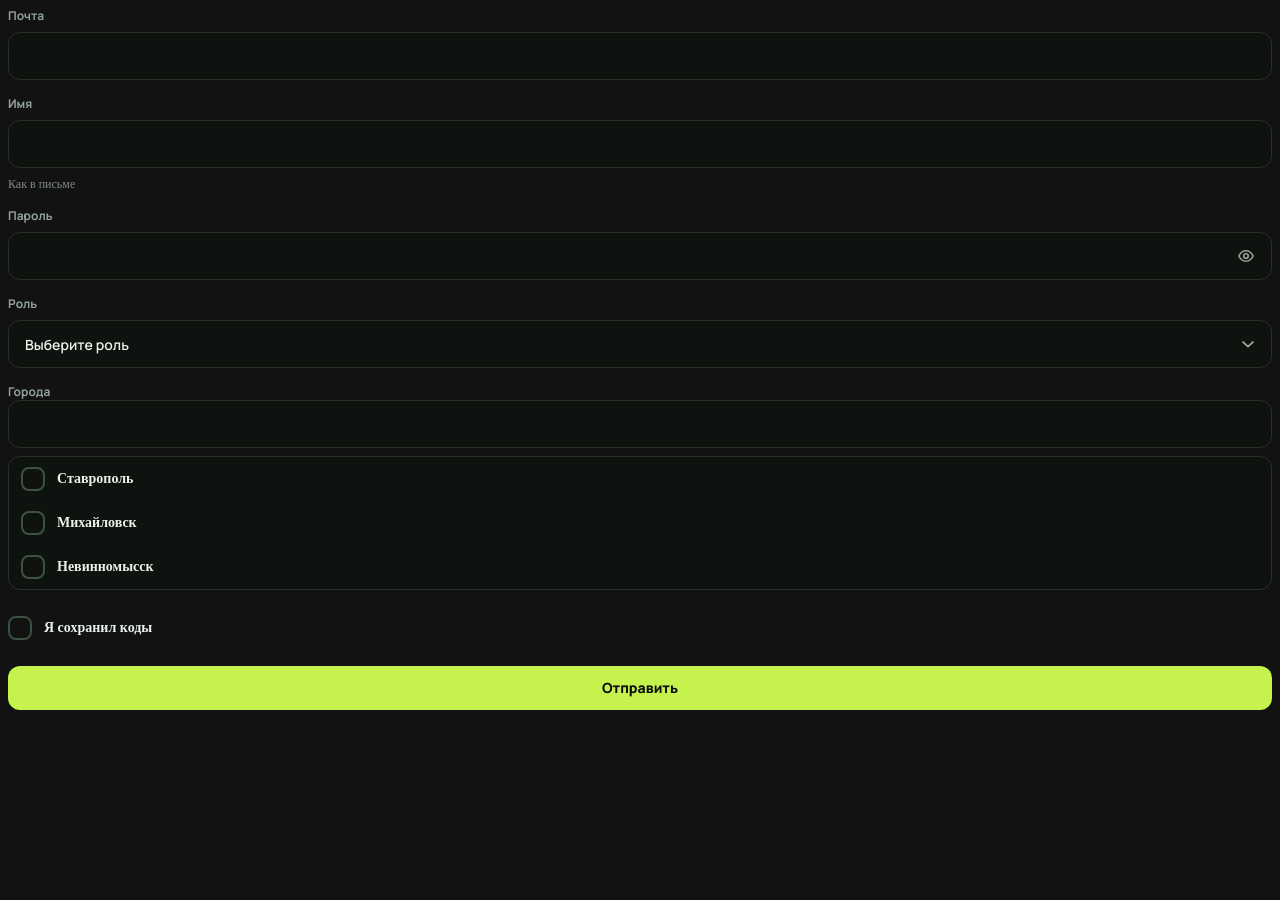
Test: Form: ошибки сервера › неизвестный код — общий текст errors.internal
Step 1. Type "a@b.c" into the field labelled "Почта" → (640, 56), box [8,32,1272,80]
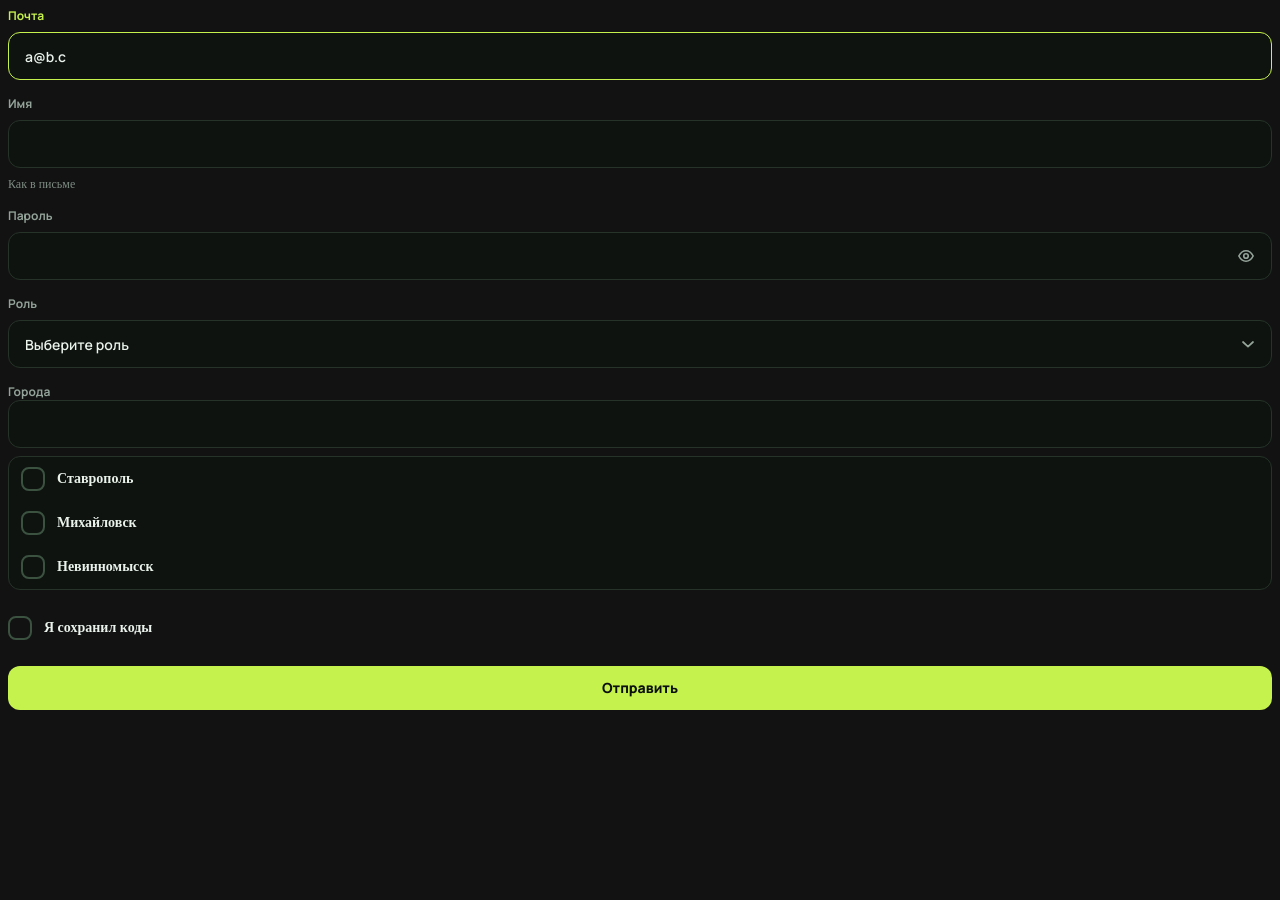
Step 2. Click the button "Отправить" → (640, 688), box [8,666,1272,710]
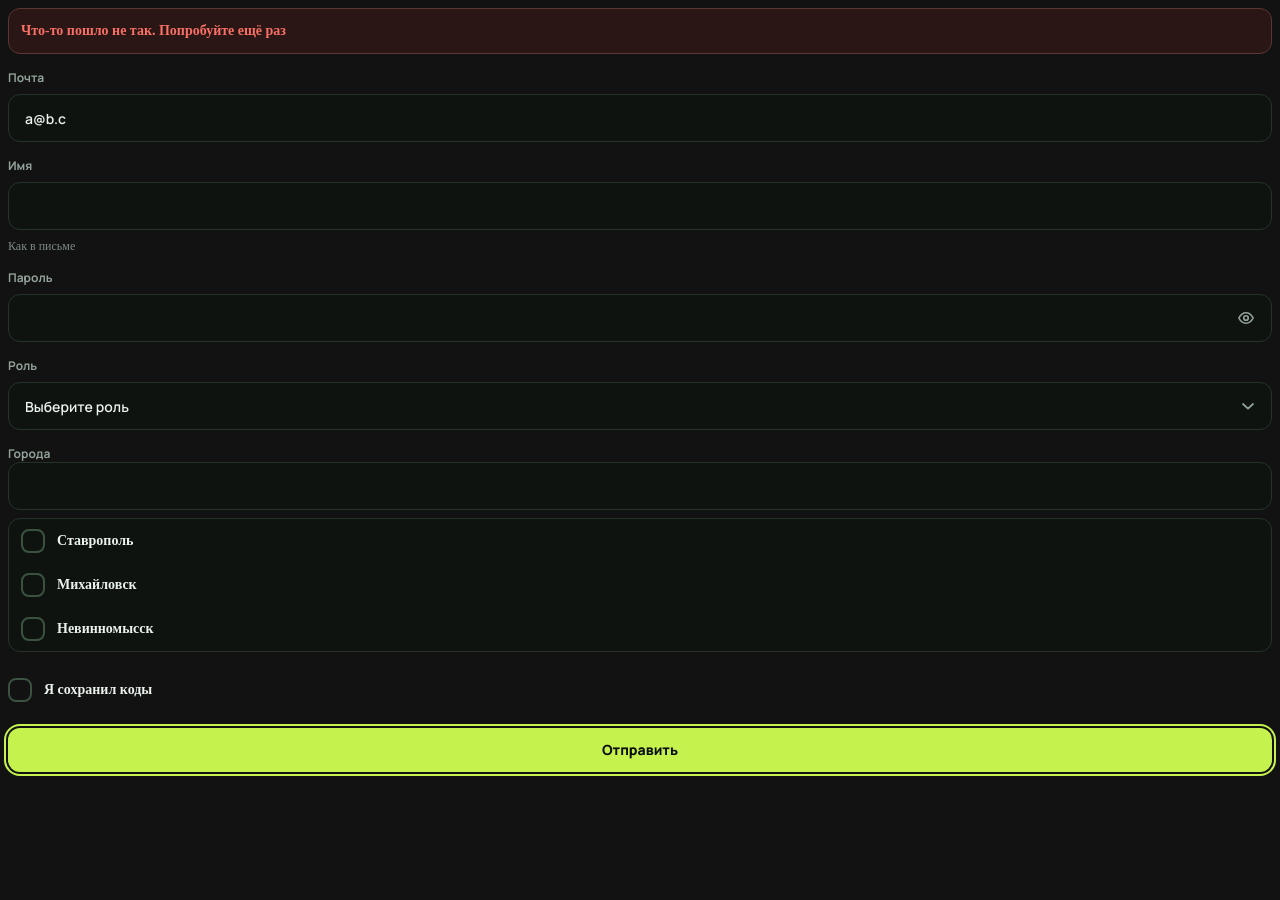
Check: the message reads "Что-то пошло не так. Попробуйте ещё раз", box [21,23,286,38]
